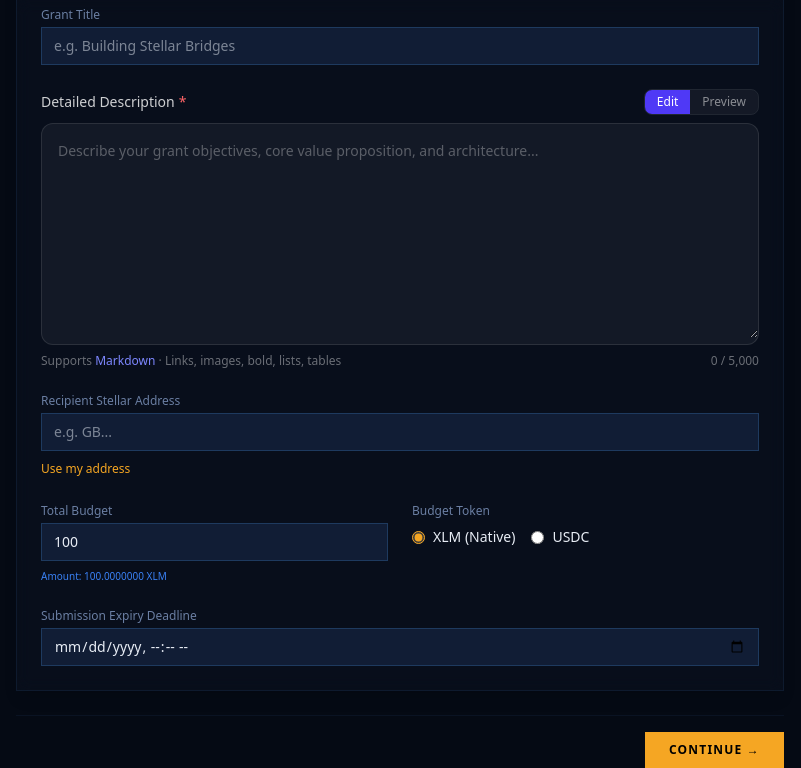
it: CreateGrantForm Multi-Step Flow › renders Step 1 and displays validation errors for empty fields on Continue
(page scrolled)
// Click Continue to trigger validations
Step 1. Click the button "Continue →" → (714, 750), box [645, 732, 784, 767]
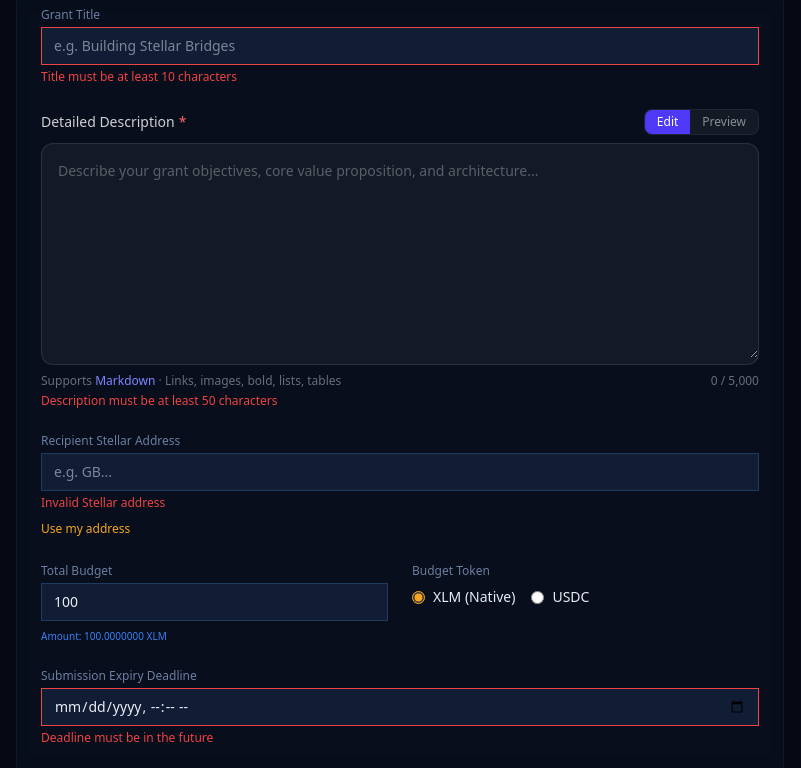
Expected: the text "Title must be at least 10 characters" is shown, [41, 68, 237, 85]
Expected: the text "Description must be at least 50 characters" is shown, [41, 392, 278, 409]
Expected: the text "Invalid Stellar address" is shown, [41, 494, 165, 511]
